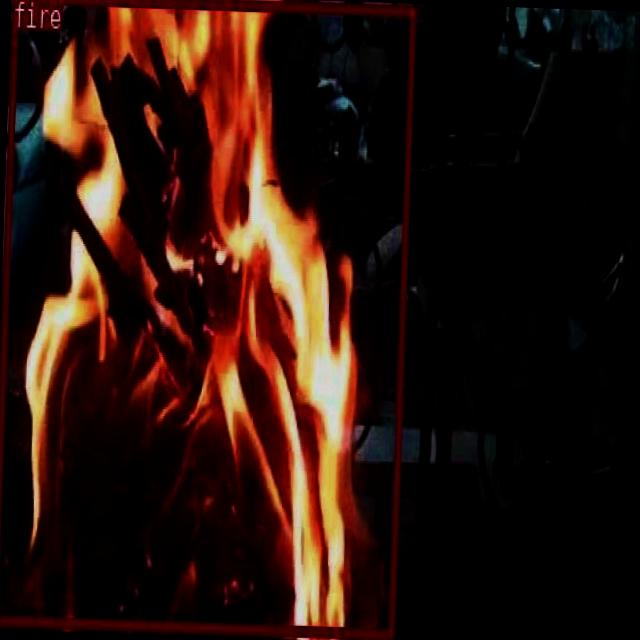fire: (0, 0, 414, 636)
